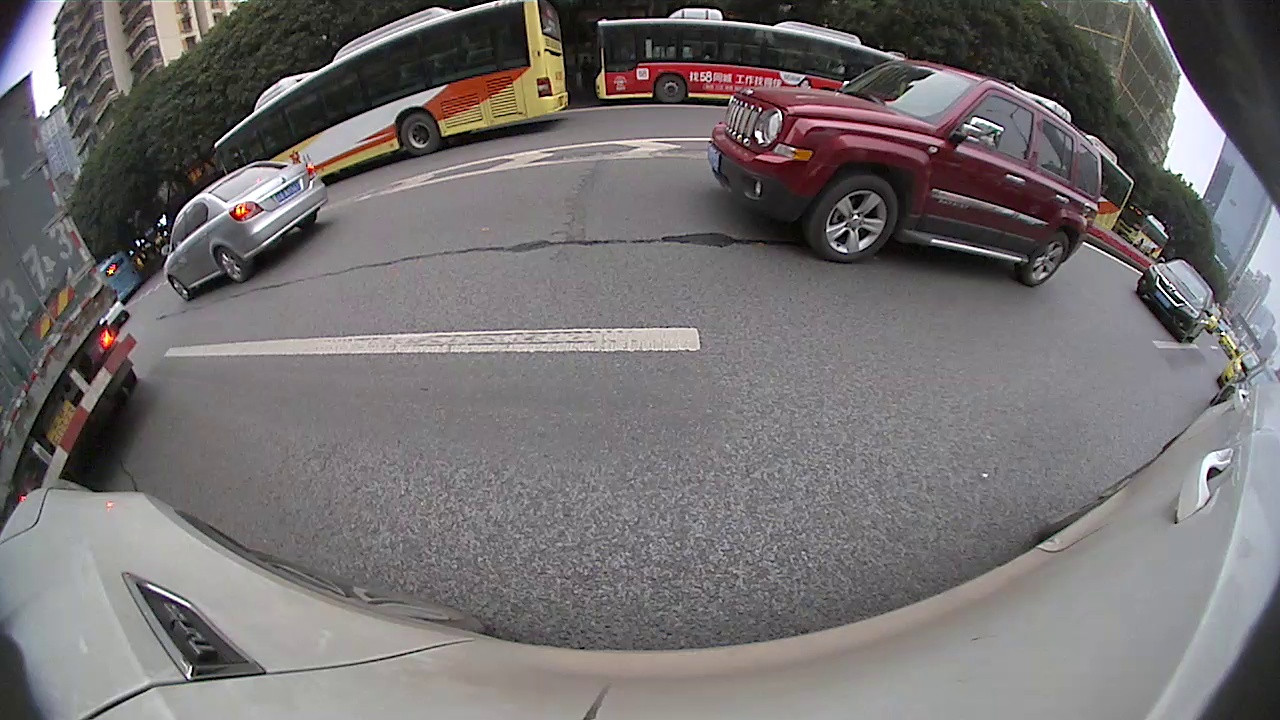bus: (212, 2, 572, 190), (592, 7, 909, 109), (1012, 84, 1137, 242), (1114, 201, 1171, 262), (97, 249, 147, 307)
car: (703, 61, 1104, 289), (160, 158, 331, 302), (1133, 258, 1217, 346)
front: (804, 167, 895, 268), (653, 75, 686, 106), (168, 275, 192, 303)
rear: (1025, 233, 1065, 286), (400, 112, 438, 157), (213, 247, 249, 282)
truck: (3, 70, 141, 527)
